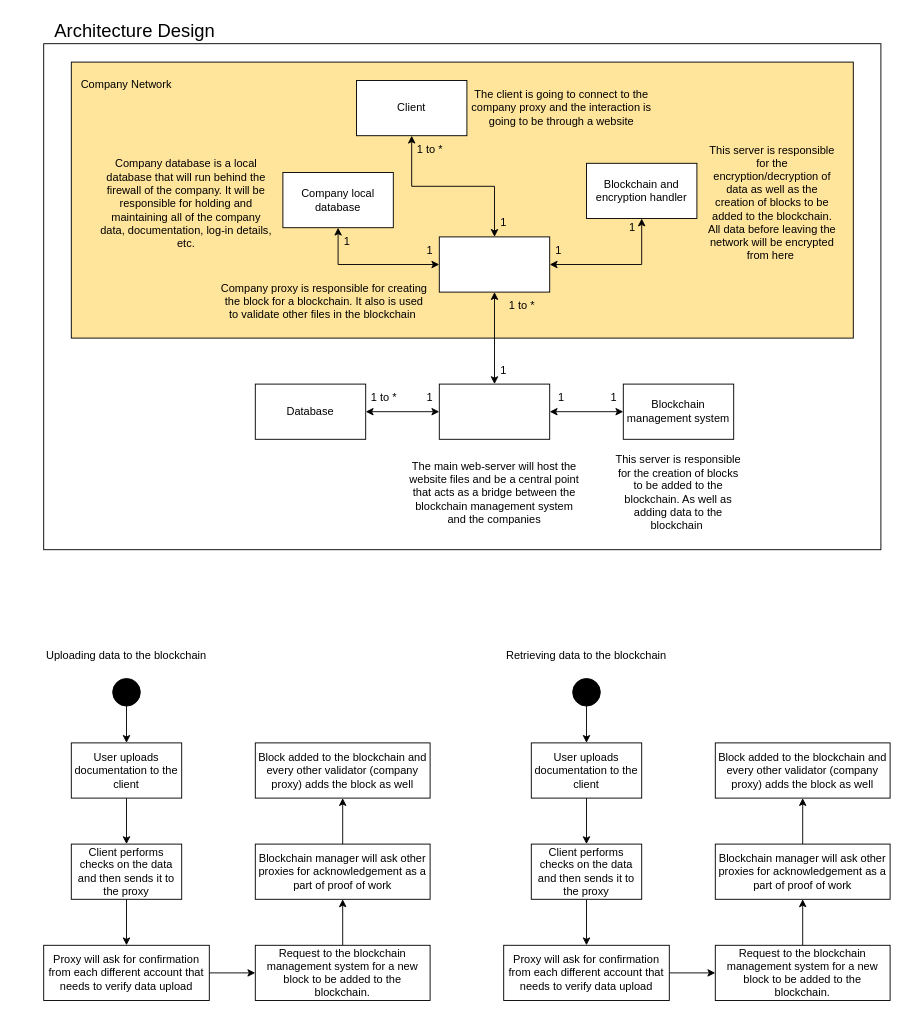
The diagram is 906 pixels wide and 1017 high, and some of its shapes have lost their labels. The box of each missing label's shape, as (x1, y1, x2, y2) in pixels:
Company proxy: (438, 236, 550, 292)
Web-server: (438, 383, 550, 439)
